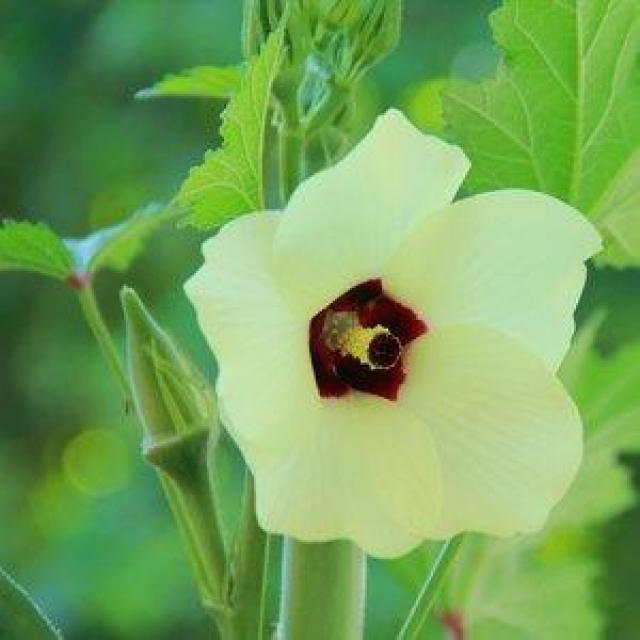organic waste: (171, 110, 610, 558)
